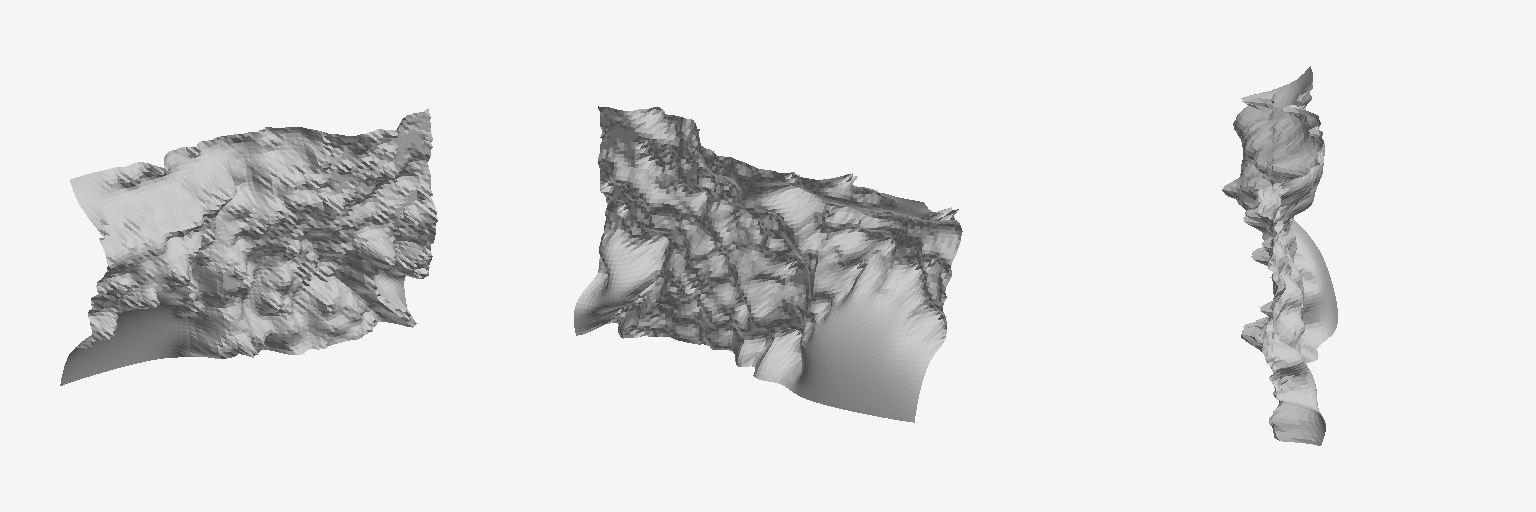
Rendered from golden_triangle.obj.
3 views of the same model, side by side, from view 1: azimuth 30°, elevation 25°; view 2: azimuth 150°, elevation 25°; view 3: azimuth 270°, elevation 25° (orthographic).
Size of the model in its own units: 124 by 73.75 by 36.33.